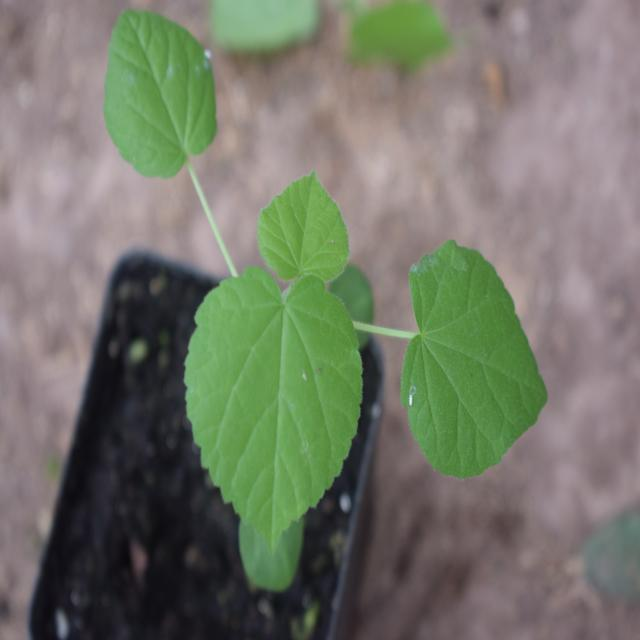abutilon theophrasti: (96, 32, 500, 519)
